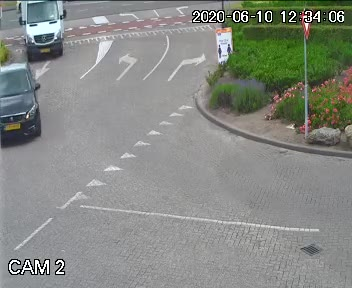car: (19, 0, 70, 65), (0, 63, 40, 144)
